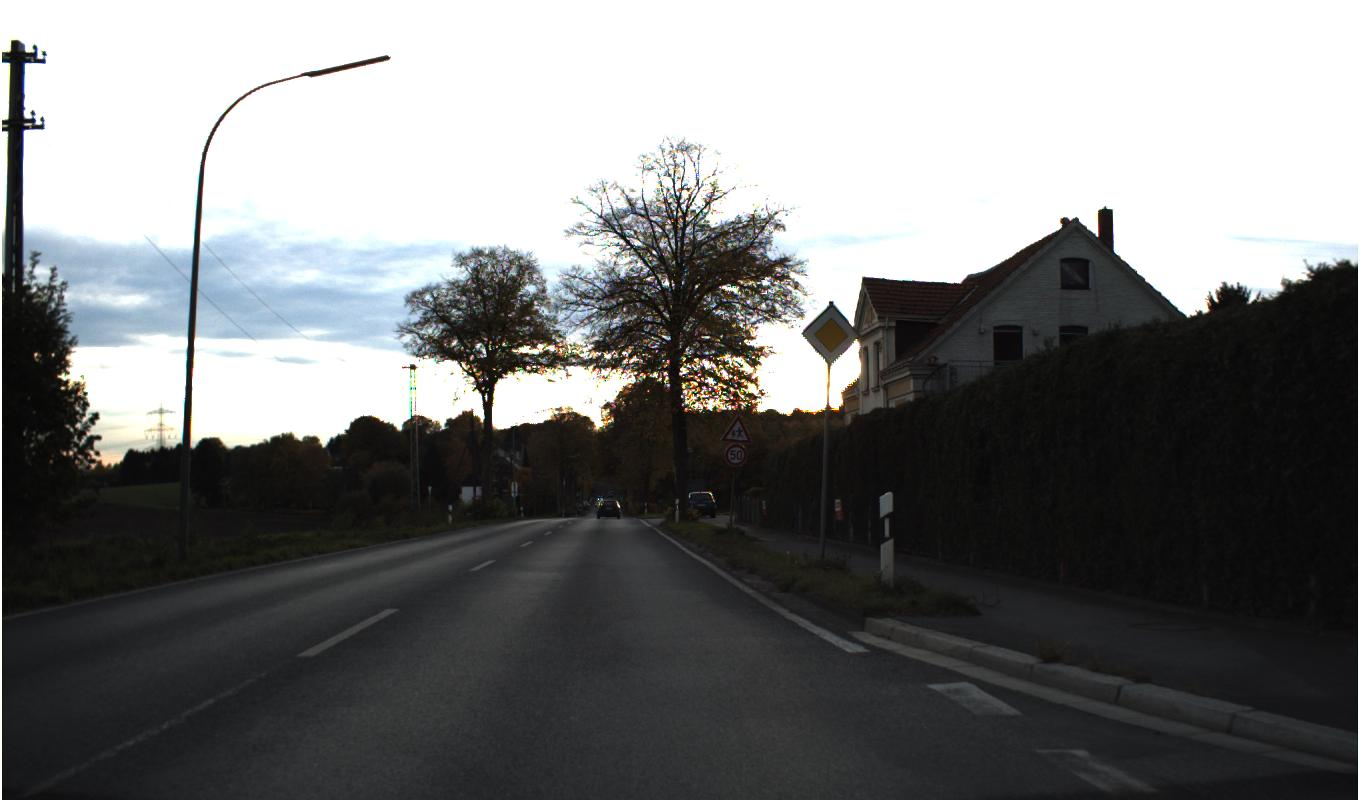danger: (718, 413, 753, 444)
prohibitory: (723, 443, 747, 467)
sign: (801, 302, 860, 364)
